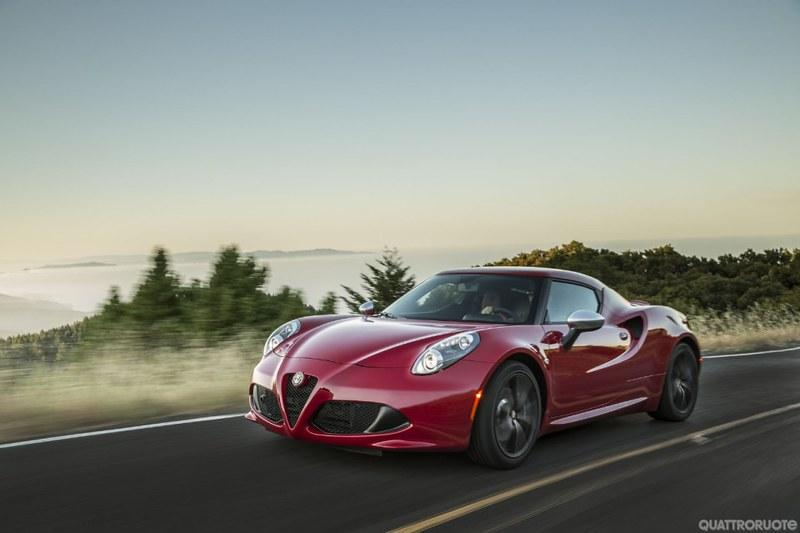windshield: (366, 266, 546, 329)
